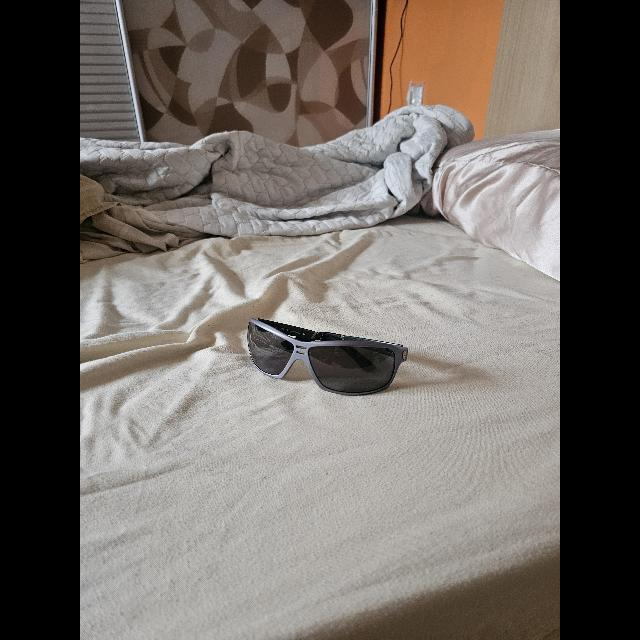Sunglasses: (248, 319, 408, 395)
